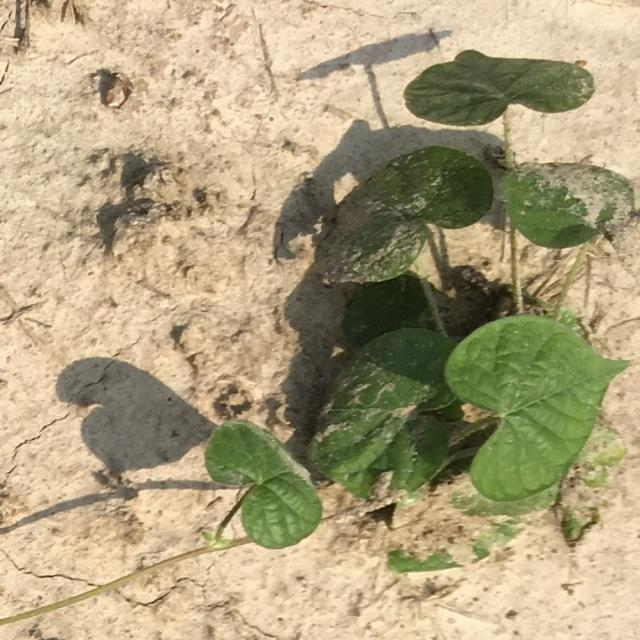MorningGlory: (196, 48, 639, 575)
